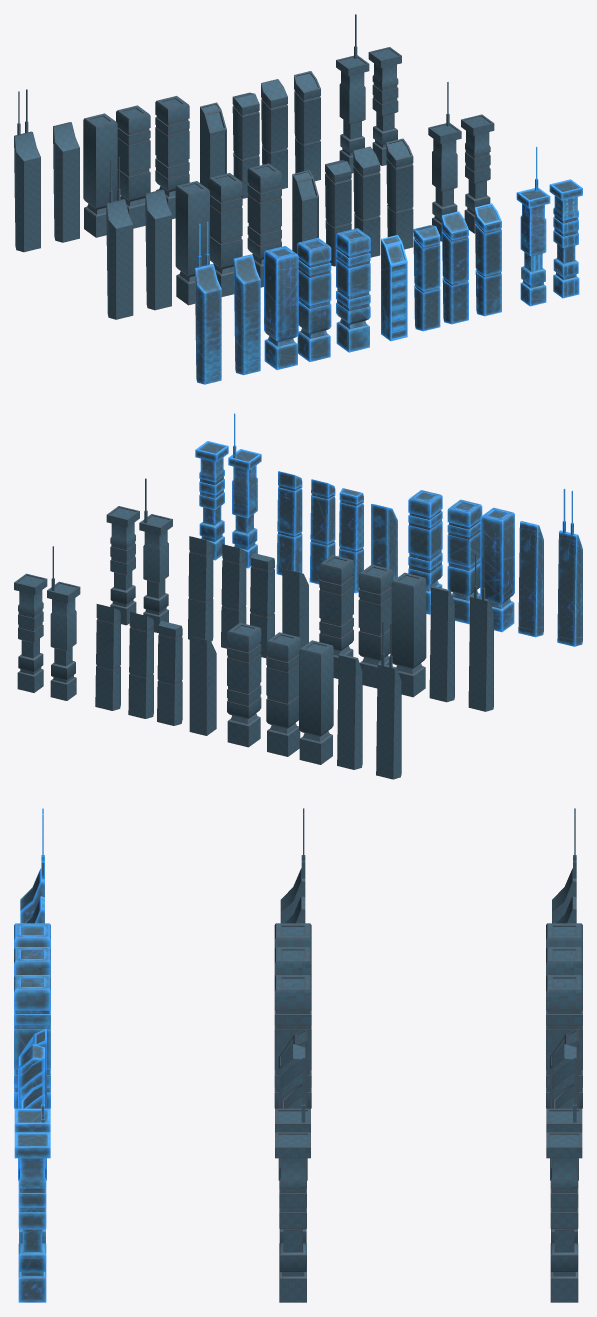
The picture shows the model from 3 angles, top to bottom: view 1: azimuth 30°, elevation 25°; view 2: azimuth 150°, elevation 25°; view 3: azimuth 270°, elevation 25°; orthographic projection. The views are drawn at different scales.
Visible parts, largest first — view 1: SM_Rooftop_JFG_2, SM_Rooftop_JFG_4, SM_Rooftop_JFG_3, SM_Rooftop_JFG_2_NO_LIGHT_DAMAGED_M_Rooftops_JFG_NO_LIGHT_DA, SM_Rooftop_JFG_3_NO_LIGHT_DAMAGED_M_Rooftops_JFG_NO_LIGHT_DA, SM_Rooftop_JFG_2_NO_LIGHT, SM_Rooftop_JFG_3_NO_LIGHT, SM_Rooftop_JFG_1_NO_LIGHT, SM_Rooftop_JFG_4_NO_LIGHT_DAMAGED_M_Rooftops_JFG_NO_LIGHT_DA, SM_Rooftop_JFG_1, SM_Rooftop_JFG_1_NO_LIGHT_DAMAGED_M_Rooftops_JFG_NO_LIGHT_DA, SM_Rooftop_JFG_4_NO_LIGHT (+21 smaller); view 2: SM_Rooftop_JFG_2_NO_LIGHT_DAMAGED_M_Rooftops_JFG_NO_LIGHT_DA, SM_Rooftop_JFG_4_NO_LIGHT_DAMAGED_M_Rooftops_JFG_NO_LIGHT_DA, SM_Rooftop_JFG_2_NO_LIGHT, SM_Rooftop_JFG_3_NO_LIGHT_DAMAGED_M_Rooftops_JFG_NO_LIGHT_DA, SM_Rooftop_JFG_2, SM_Rooftop_JFG_3_NO_LIGHT, SM_Rooftop_JFG_3, SM_Rooftop_JFG_4_NO_LIGHT, SM_Rooftop_JFG_4, SM_Rooftop_JFG_1, SM_Rooftop_JFG_1_NO_LIGHT_DAMAGED_M_Rooftops_JFG_NO_LIGHT_DA, SM_Rooftop_JFG_9_NO_LIGHT_DAMAGED_M_Rooftops_JFG_NO_LIGHT_DA (+21 smaller); view 3: SM_Rooftop_JFG_10_NO_LIGHT_DAMAGED_M_Rooftops_JFG_NO_LIGHT_D, SM_Rooftop_JFG_10, SM_Rooftop_JFG_10_NO_LIGHT, SM_Rooftop_JFG_4_NO_LIGHT, SM_Rooftop_JFG_4, SM_Rooftop_JFG_4_NO_LIGHT_DAMAGED_M_Rooftops_JFG_NO_LIGHT_DA, SM_Rooftop_JFG_9_NO_LIGHT, SM_Rooftop_JFG_9_NO_LIGHT_DAMAGED_M_Rooftops_JFG_NO_LIGHT_DA, SM_Rooftop_JFG_9, SM_Rooftop_JFG_3_NO_LIGHT, SM_Rooftop_JFG_3_NO_LIGHT_DAMAGED_M_Rooftops_JFG_NO_LIGHT_DA, SM_Rooftop_JFG_3 (+7 smaller).
Part boxes in pixels (left/top/right/bottom): SM_Rooftop_JFG_2: left=264, top=246, right=298, bottom=369; SM_Rooftop_JFG_4: left=336, top=228, right=370, bottom=352; SM_Rooftop_JFG_3: left=297, top=238, right=331, bottom=361; SM_Rooftop_JFG_2_NO_LIGHT_DAMAGED_M_Rooftops_JFG_NO_LIGHT_DA: left=83, top=113, right=117, bottom=237; SM_Rooftop_JFG_3_NO_LIGHT_DAMAGED_M_Rooftops_JFG_NO_LIGHT_DA: left=116, top=105, right=150, bottom=228; SM_Rooftop_JFG_2_NO_LIGHT: left=175, top=181, right=209, bottom=305; SM_Rooftop_JFG_3_NO_LIGHT: left=208, top=173, right=242, bottom=296; SM_Rooftop_JFG_1_NO_LIGHT: left=106, top=157, right=133, bottom=319; SM_Rooftop_JFG_4_NO_LIGHT_DAMAGED_M_Rooftops_JFG_NO_LIGHT_DA: left=155, top=96, right=189, bottom=219; SM_Rooftop_JFG_1: left=195, top=222, right=221, bottom=384; SM_Rooftop_JFG_1_NO_LIGHT_DAMAGED_M_Rooftops_JFG_NO_LIGHT_DA: left=14, top=89, right=40, bottom=252; SM_Rooftop_JFG_4_NO_LIGHT: left=247, top=163, right=281, bottom=287; SM_Rooftop_JFG_2_NO_LIGHT_DAMAGED_M_Rooftops_JFG_NO_LIGHT_DA: left=299, top=640, right=333, bottom=764; SM_Rooftop_JFG_4_NO_LIGHT_DAMAGED_M_Rooftops_JFG_NO_LIGHT_DA: left=227, top=622, right=261, bottom=747; SM_Rooftop_JFG_2_NO_LIGHT: left=391, top=572, right=426, bottom=697; SM_Rooftop_JFG_3_NO_LIGHT_DAMAGED_M_Rooftops_JFG_NO_LIGHT_DA: left=266, top=632, right=300, bottom=756; SM_Rooftop_JFG_2: left=480, top=507, right=514, bottom=632; SM_Rooftop_JFG_3_NO_LIGHT: left=358, top=564, right=393, bottom=688; SM_Rooftop_JFG_3: left=447, top=499, right=482, bottom=624; SM_Rooftop_JFG_4_NO_LIGHT: left=319, top=555, right=353, bottom=678; SM_Rooftop_JFG_4: left=408, top=490, right=442, bottom=614; SM_Rooftop_JFG_1: left=557, top=488, right=582, bottom=646; SM_Rooftop_JFG_1_NO_LIGHT_DAMAGED_M_Rooftops_JFG_NO_LIGHT_DA: left=376, top=621, right=401, bottom=779; SM_Rooftop_JFG_9_NO_LIGHT_DAMAGED_M_Rooftops_JFG_NO_LIGHT_DA: left=47, top=546, right=80, bottom=700; SM_Rooftop_JFG_10_NO_LIGHT_DAMAGED_M_Rooftops_JFG_NO_LIGHT_D: left=546, top=1132, right=582, bottom=1302; SM_Rooftop_JFG_10: left=14, top=1132, right=50, bottom=1302; SM_Rooftop_JFG_10_NO_LIGHT: left=275, top=1132, right=310, bottom=1302; SM_Rooftop_JFG_4_NO_LIGHT: left=274, top=975, right=311, bottom=1108; SM_Rooftop_JFG_4: left=14, top=975, right=50, bottom=1108; SM_Rooftop_JFG_4_NO_LIGHT_DAMAGED_M_Rooftops_JFG_NO_LIGHT_DA: left=546, top=975, right=582, bottom=1108; SM_Rooftop_JFG_9_NO_LIGHT: left=275, top=1057, right=310, bottom=1266; SM_Rooftop_JFG_9_NO_LIGHT_DAMAGED_M_Rooftops_JFG_NO_LIGHT_DA: left=546, top=1057, right=582, bottom=1266; SM_Rooftop_JFG_9: left=14, top=1057, right=50, bottom=1266; SM_Rooftop_JFG_3_NO_LIGHT: left=274, top=947, right=311, bottom=976; SM_Rooftop_JFG_3_NO_LIGHT_DAMAGED_M_Rooftops_JFG_NO_LIGHT_DA: left=546, top=947, right=582, bottom=976; SM_Rooftop_JFG_3: left=14, top=947, right=50, bottom=976.
Size of the model in its own units: 185 by 72.62 by 164.
3 materials, 3 textured.
